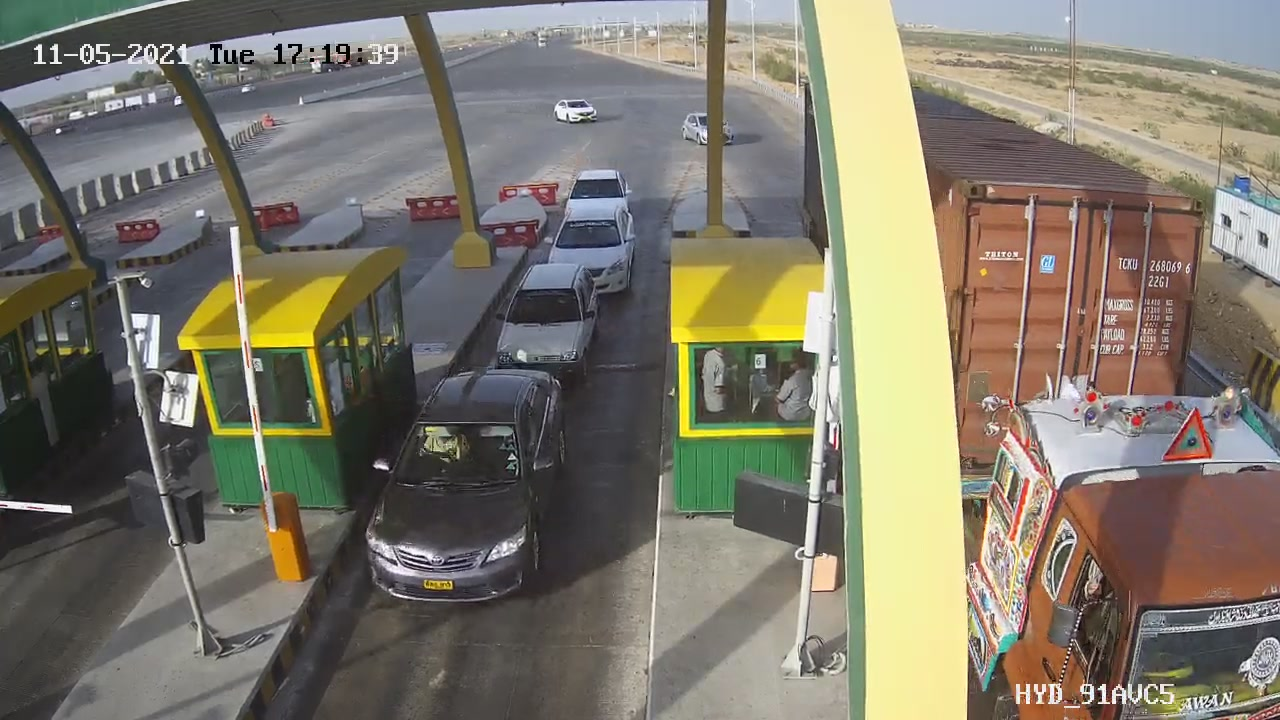F1: (346, 352, 589, 618), (478, 253, 620, 394)
